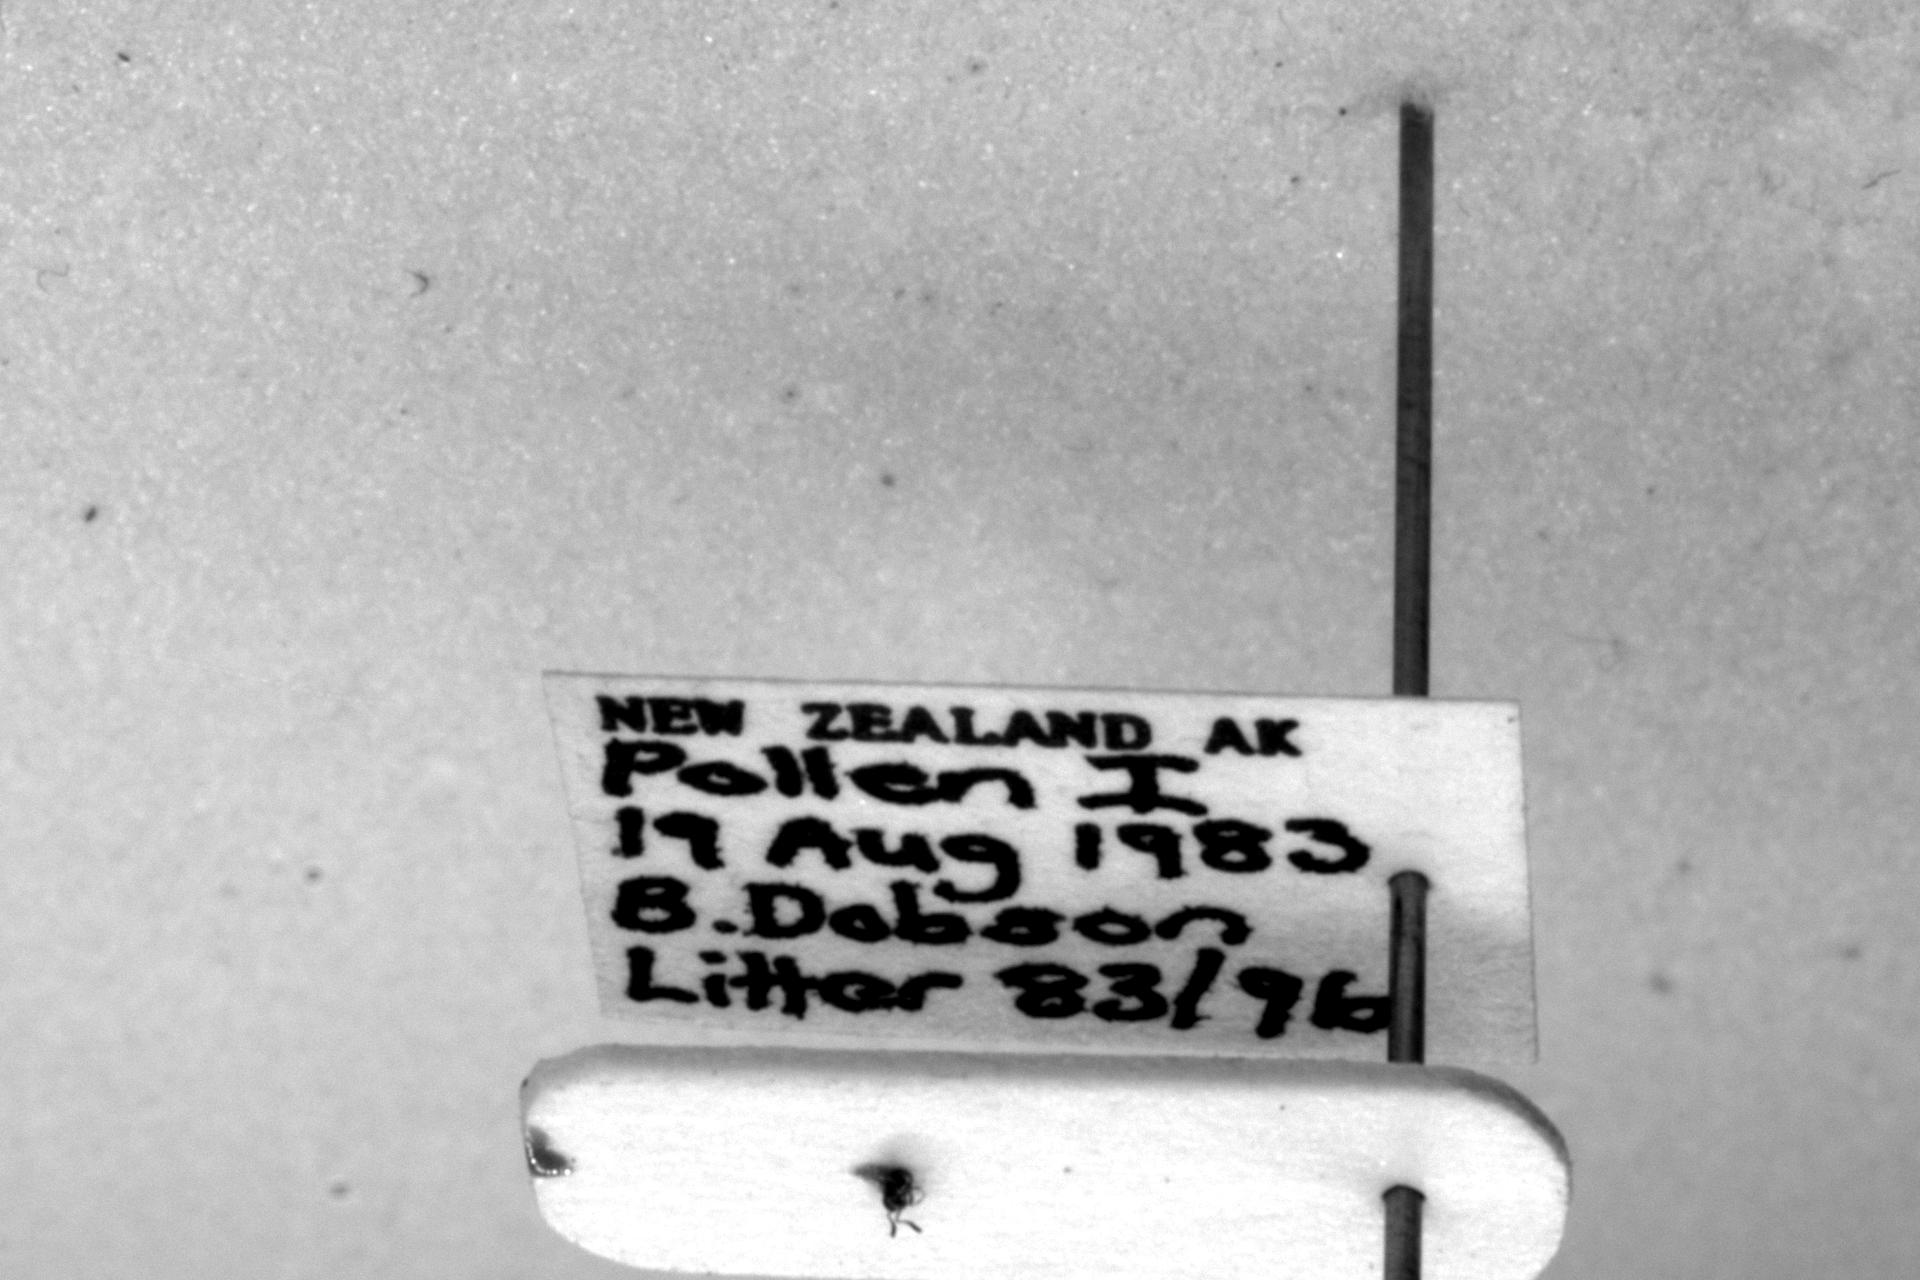mixed_label: (544, 675, 1538, 1061)
